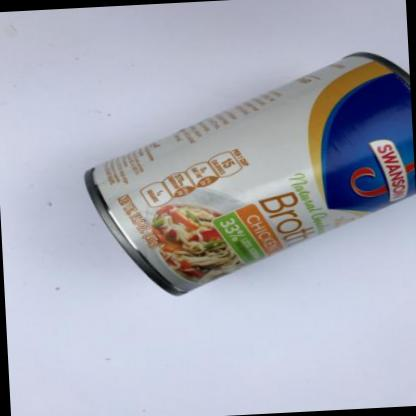Metal: (86, 50, 415, 294)
